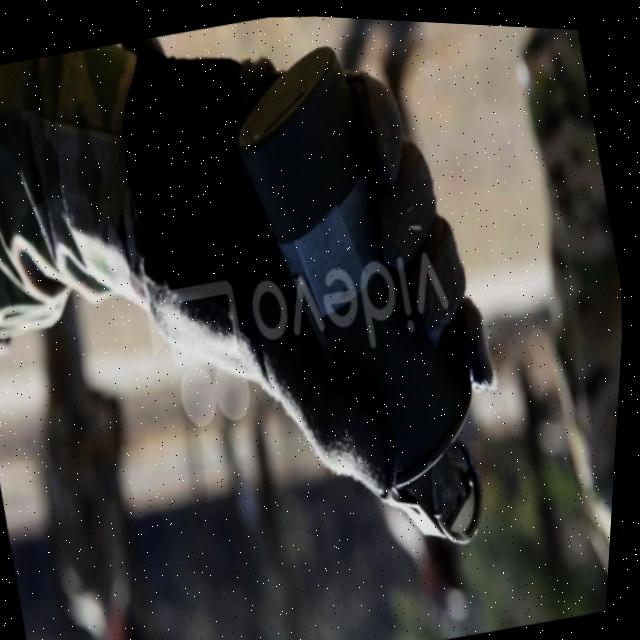grenade: (198, 9, 539, 577)
